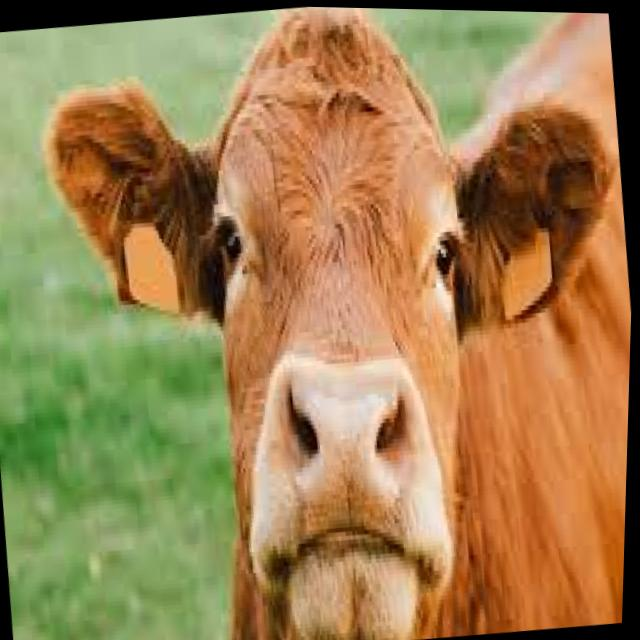cowFace: (6, 0, 640, 640)
